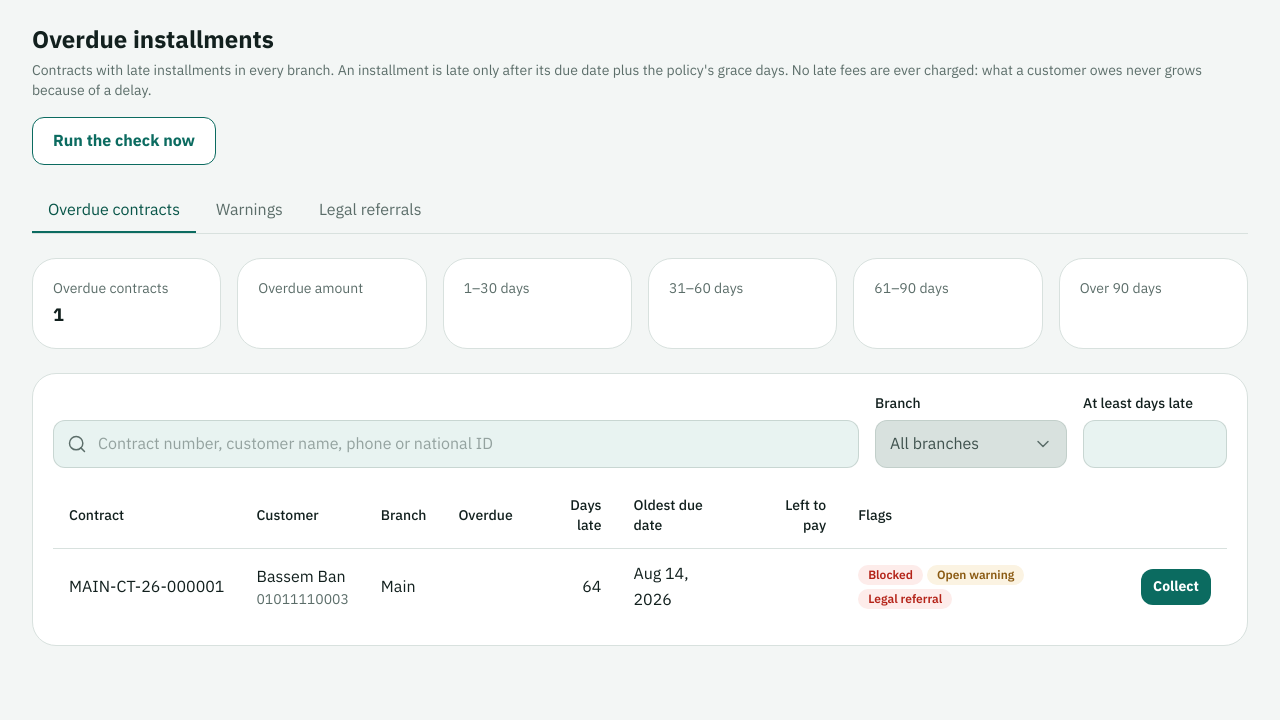
Test: N04 overdue page (owner) › dismisses a legal referral with a reason (owner only)
Click the tab "Legal referrals" at (370, 211), box [303,189,438,233]
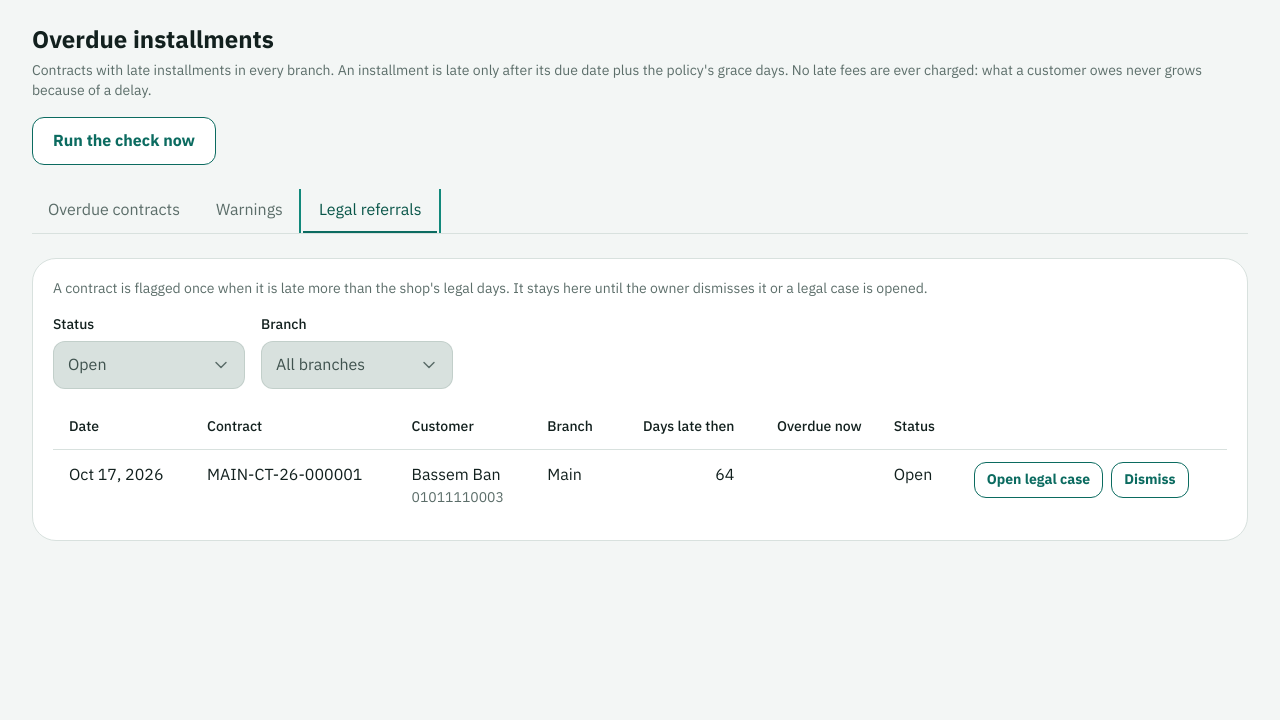
Click the button "Dismiss" at (1150, 480), box [1111,462,1188,498]
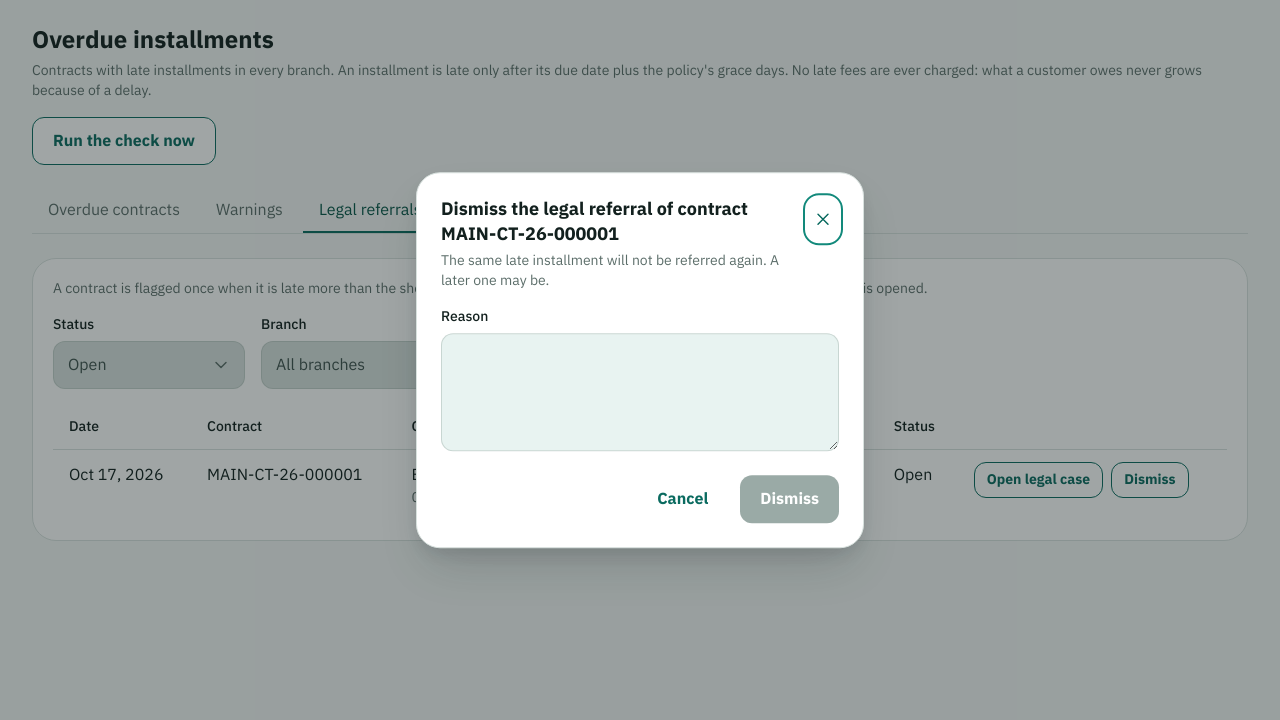
Expected: the button "Dismiss" is disabled, [740,475,839,523]
Type "Agreed a payment plan" into the text box labelled "Reason" at (640, 392), box [441,333,839,451]
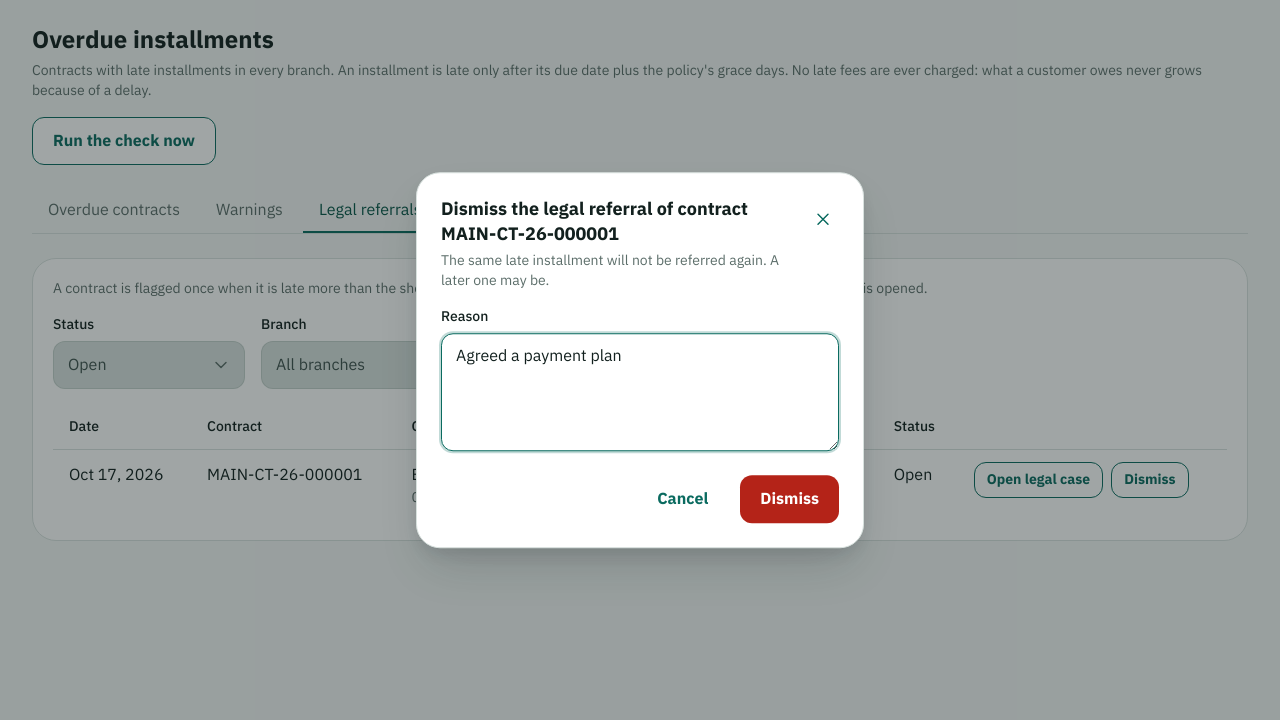
Click the button "Dismiss" at (790, 499), box [740,475,839,523]
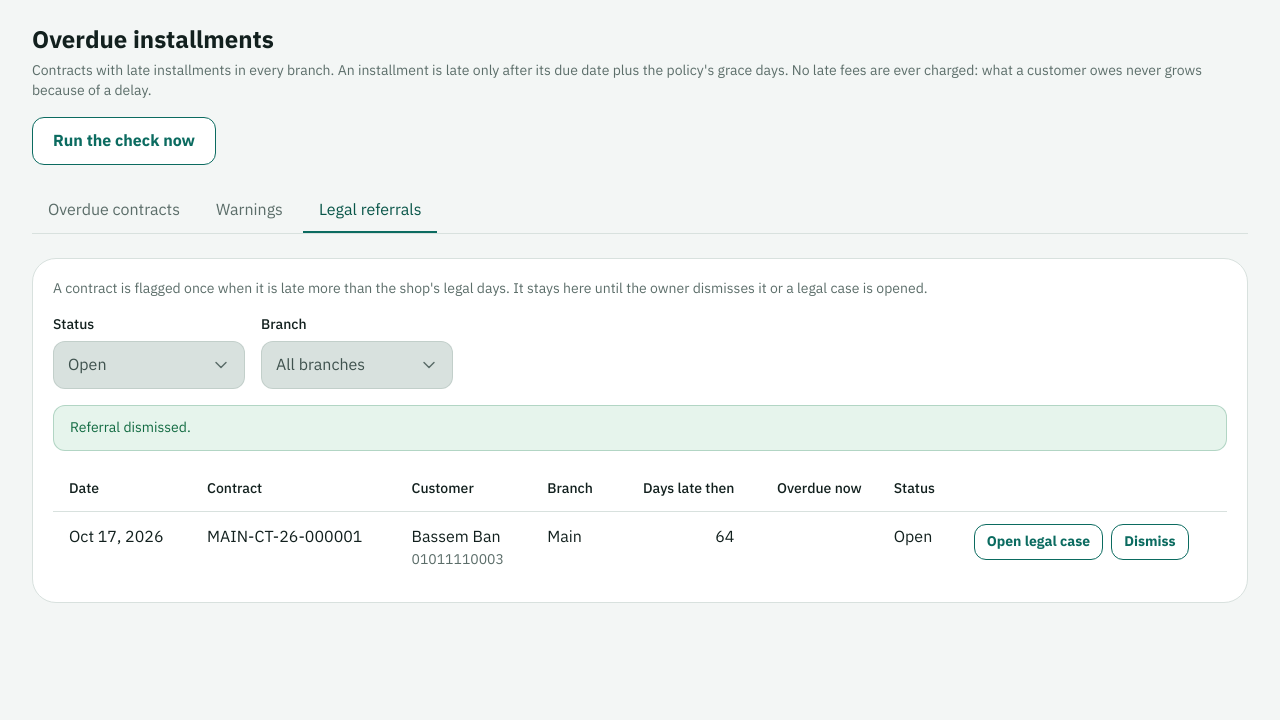
Expected: the text "Referral dismissed." is shown, [53,405,1227,451]
